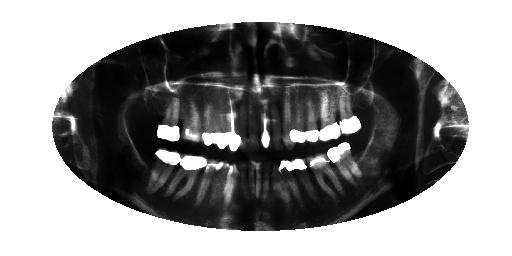Fillings: (168, 154, 207, 199), (279, 160, 317, 204), (327, 142, 363, 184), (311, 155, 343, 199), (149, 148, 180, 192), (319, 89, 343, 141), (338, 89, 362, 136), (157, 97, 182, 141), (303, 93, 319, 141), (289, 97, 305, 142), (216, 102, 231, 149), (202, 103, 217, 146)
Implant: (228, 97, 241, 151), (260, 108, 271, 150)
